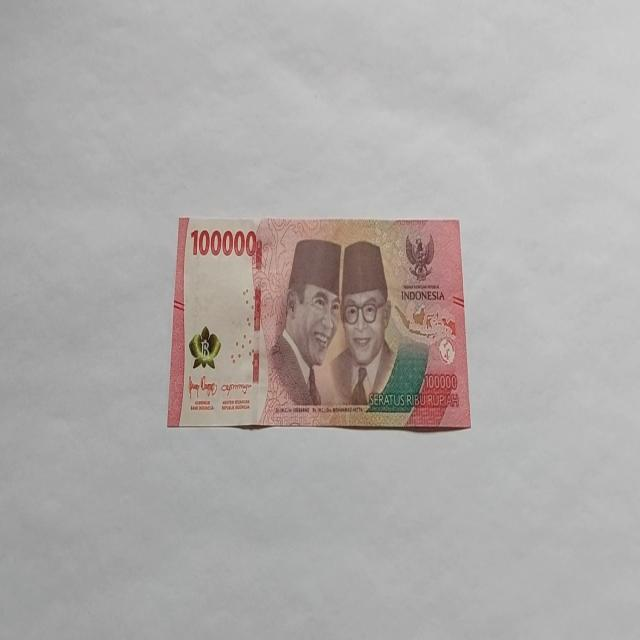seratus ribu rupiah: (166, 214, 472, 431)
